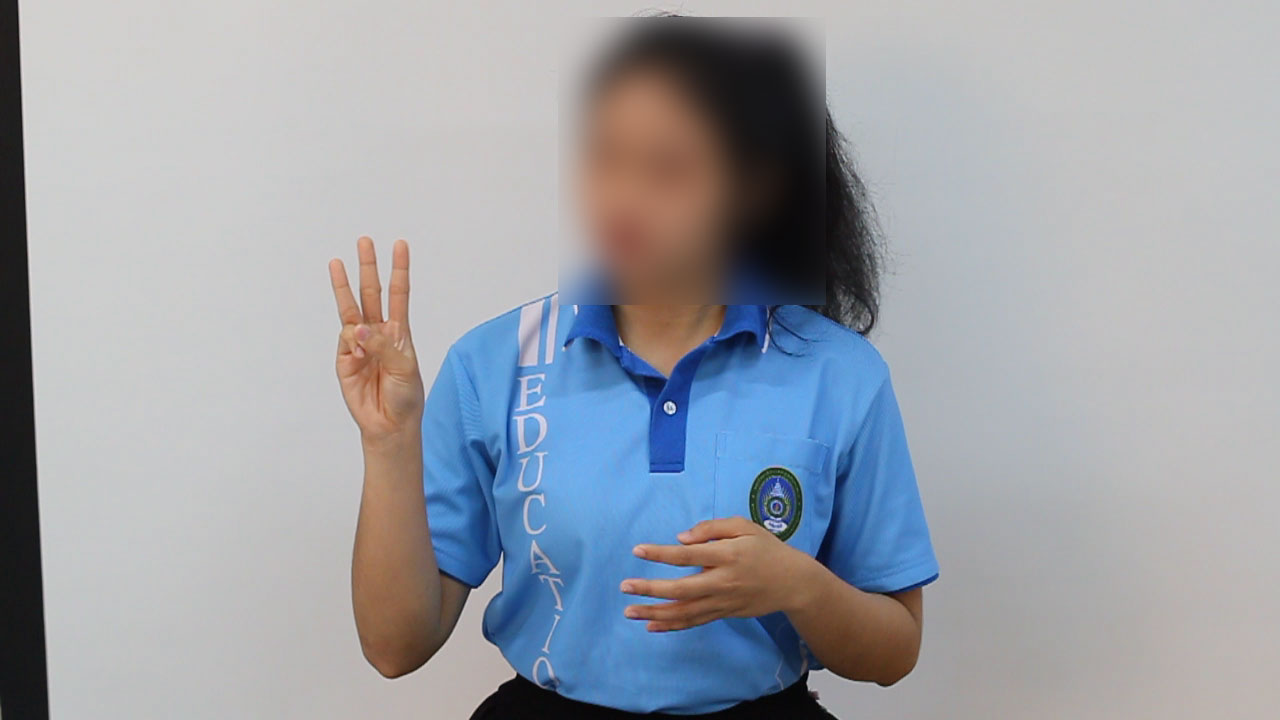wor: (319, 229, 430, 453)
